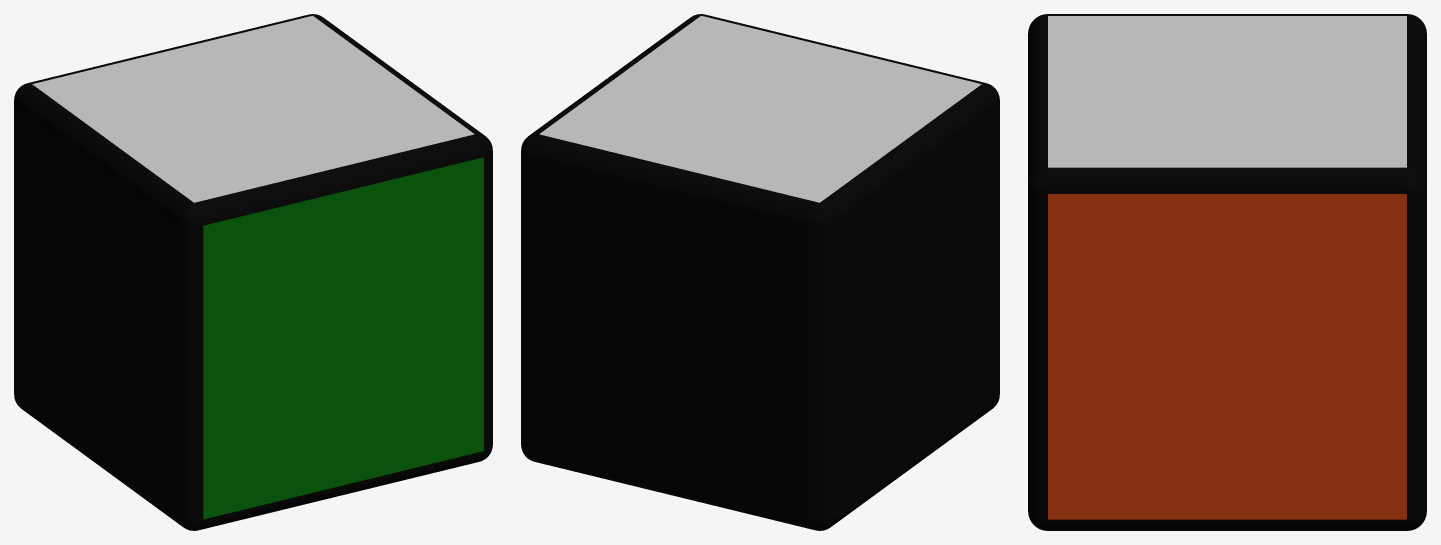
The model's file is alpha4.obj.
The picture shows the model from 3 angles, left to right: view 1: azimuth 30°, elevation 25°; view 2: azimuth 150°, elevation 25°; view 3: azimuth 270°, elevation 25°; orthographic projection. The views are drawn at different scales.
Visible parts, largest first — view 1: Cube.005; view 2: Cube.005; view 3: Cube.005.
Part boxes in pixels (bbox=[...]): Cube.005: bbox=[14, 14, 492, 530]; Cube.005: bbox=[521, 14, 999, 530]; Cube.005: bbox=[1028, 14, 1426, 530].
Bounding box in the file's own units: 4.28 × 4.28 × 4.28.
